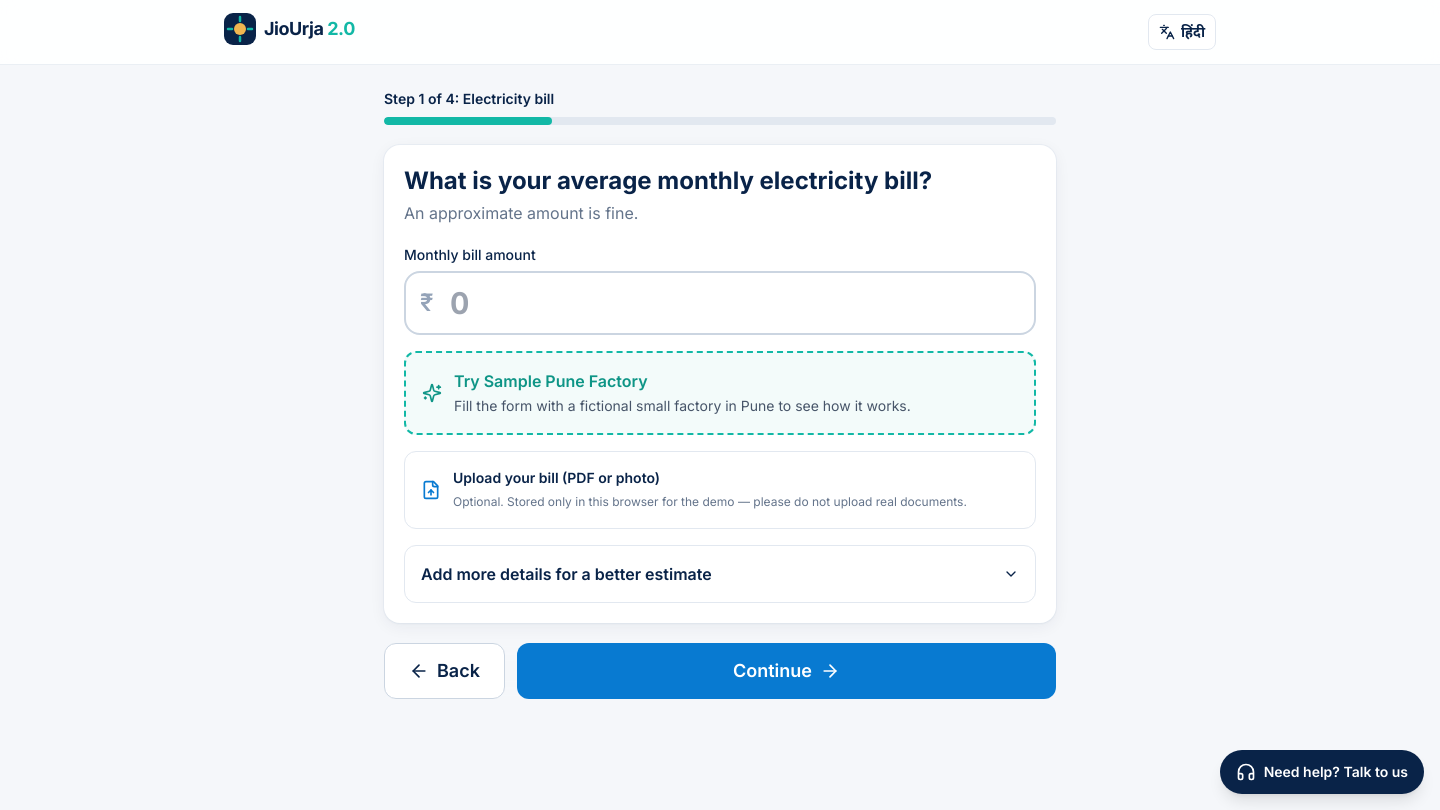
Test: customer onboarding UI › validates the bill amount before continuing
Click the button "Continue" at (786,671), box [517,643,1056,699]
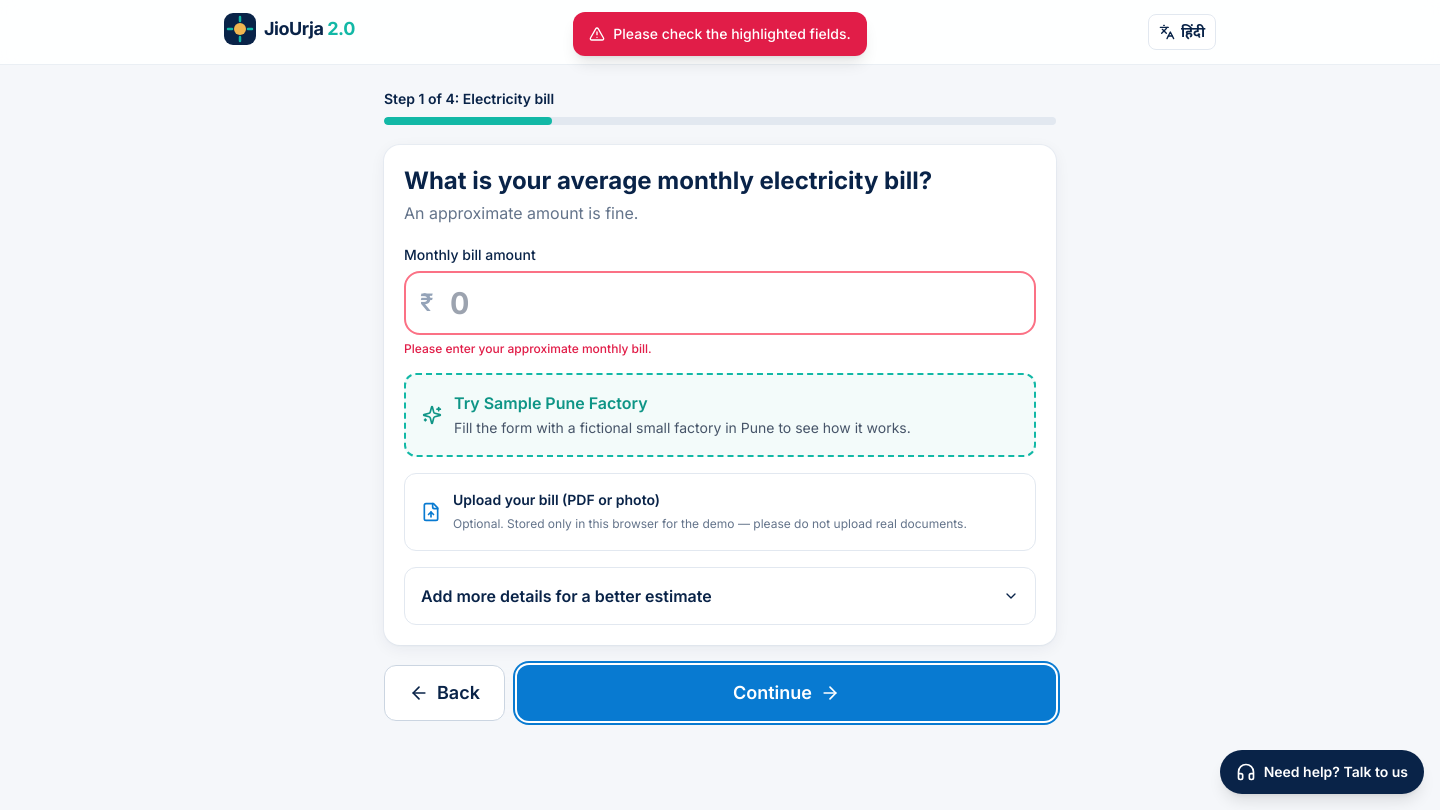
Expected: the text "Please enter your approximate monthly bill." is shown, [404,341,652,356]
